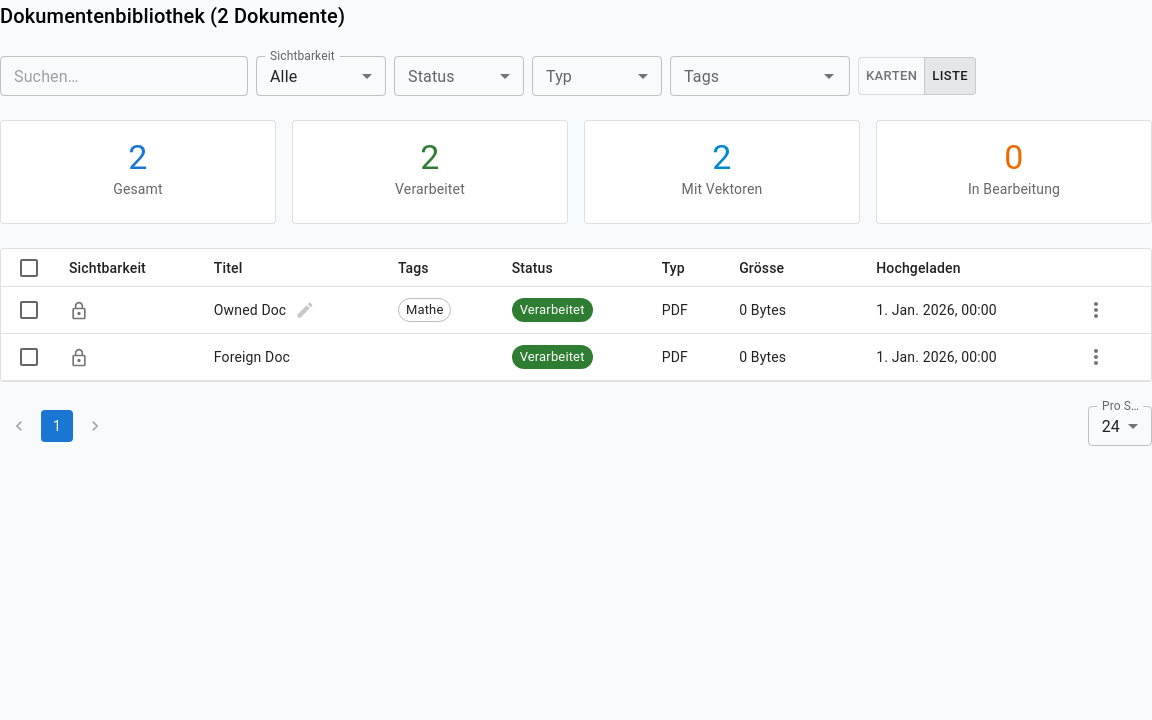
Test: DocumentLibrary TF-355 paginated › (c) bulk tags add: doc mit tag 5 → attachDocumentTags nicht aufgerufen (no-op)
Expected: the text "Owned Doc" is shown, [214,300,286,320]
Click the checkbox named "Owned Doc". click: click(29, 310)
box: [17,298,41,322]
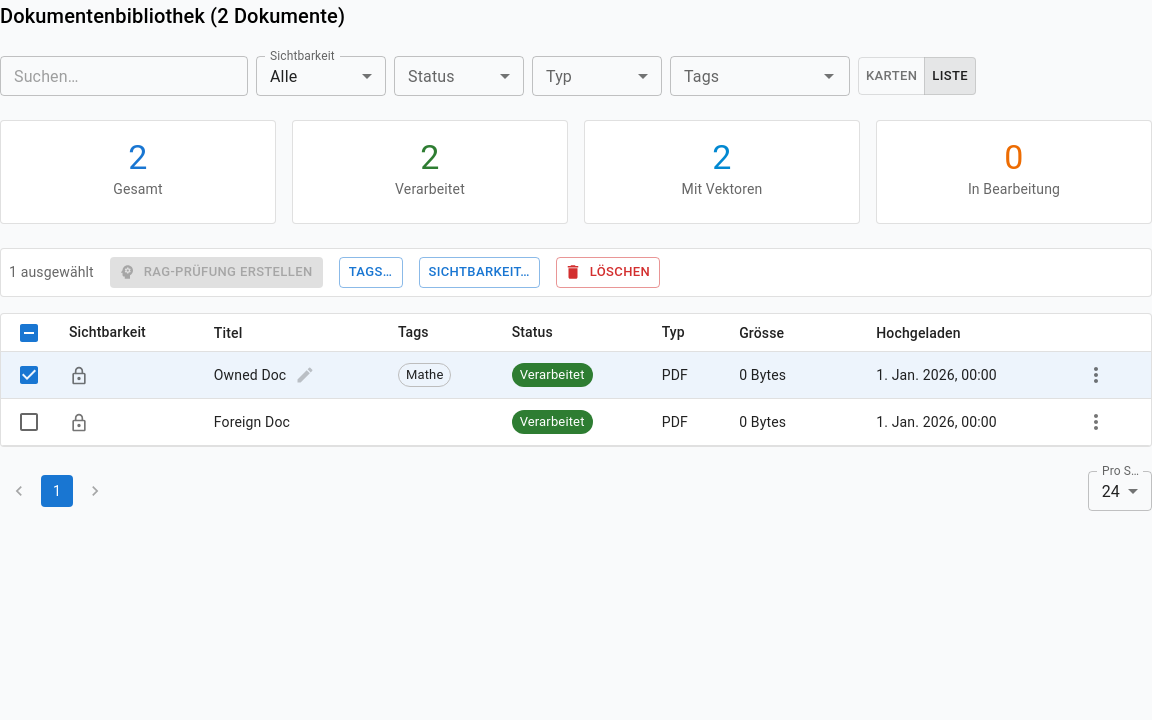
Note: Open bulk Tags dialog
Click the button "Tags…". click: click(370, 272)
box: [338,257,402,288]
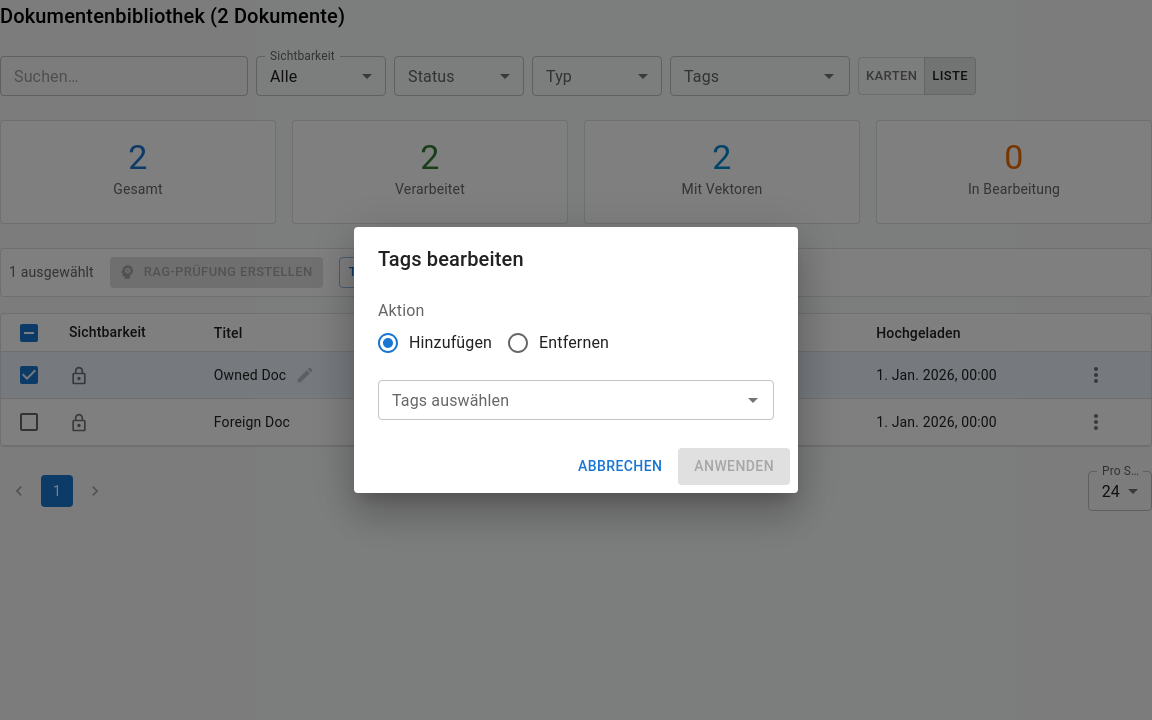
Press the mouse on the dropdown at (560, 400), box [384,386,735,414]
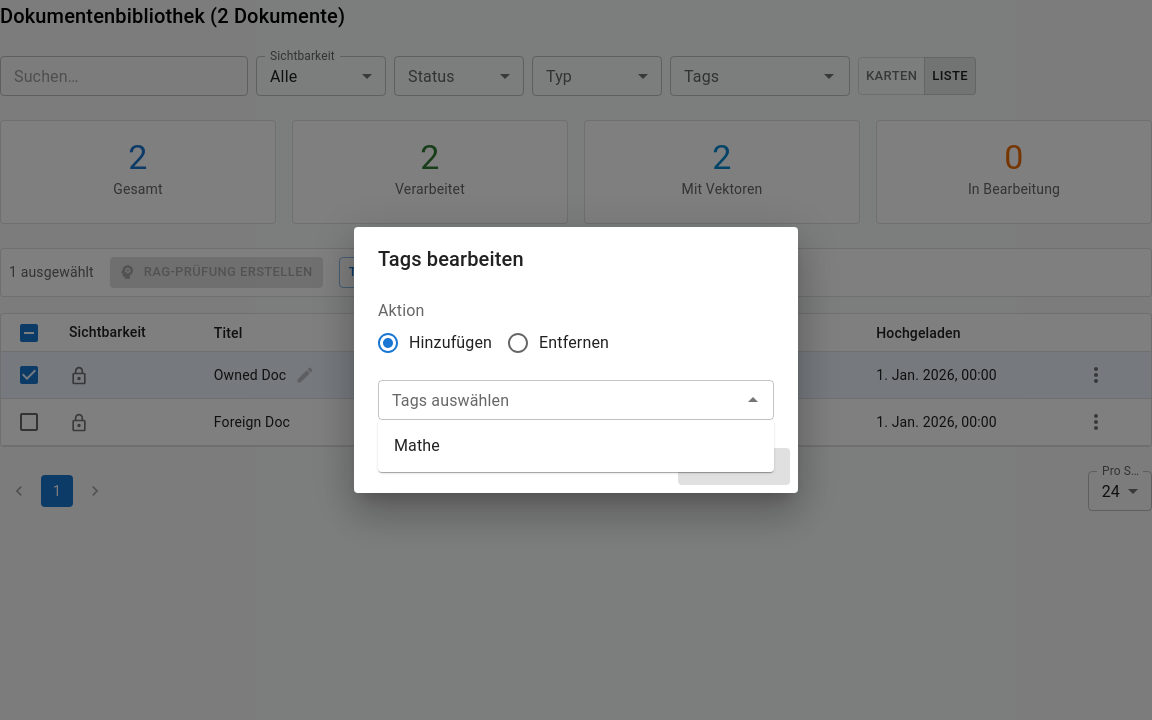
Click the option "Mathe". click: click(417, 446)
box: [394,436,440,455]
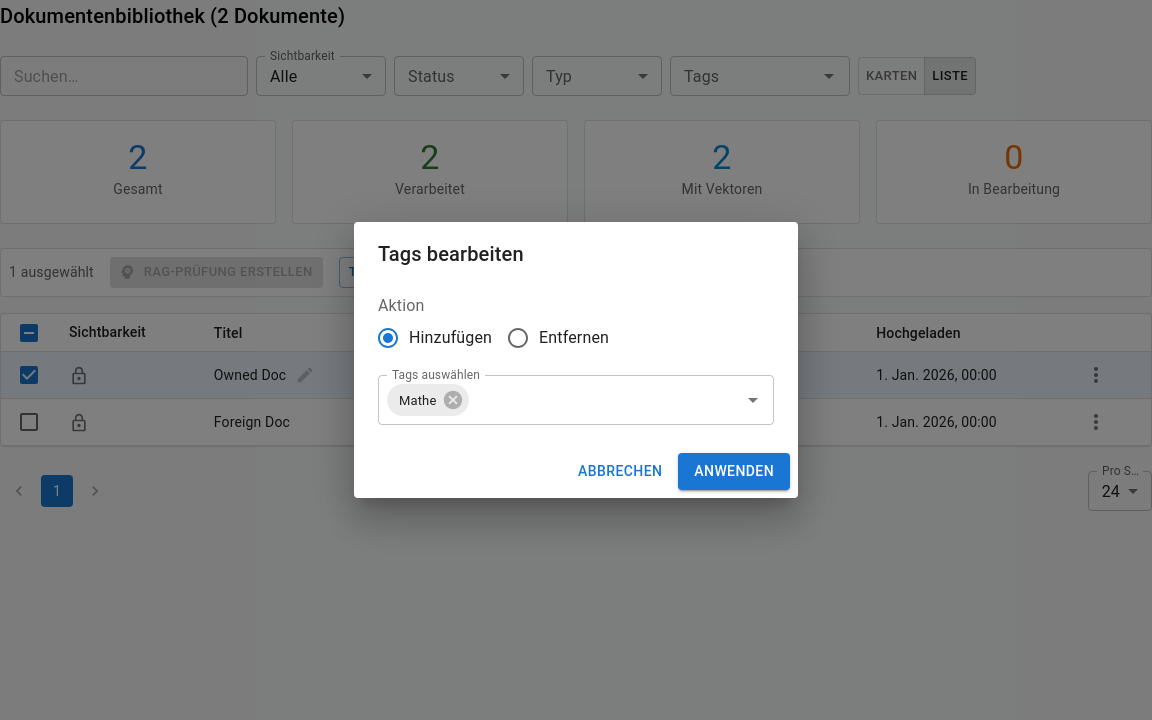
Note: Click Apply
Click the button "Anwenden". click: click(734, 472)
box: [678,453,790,490]
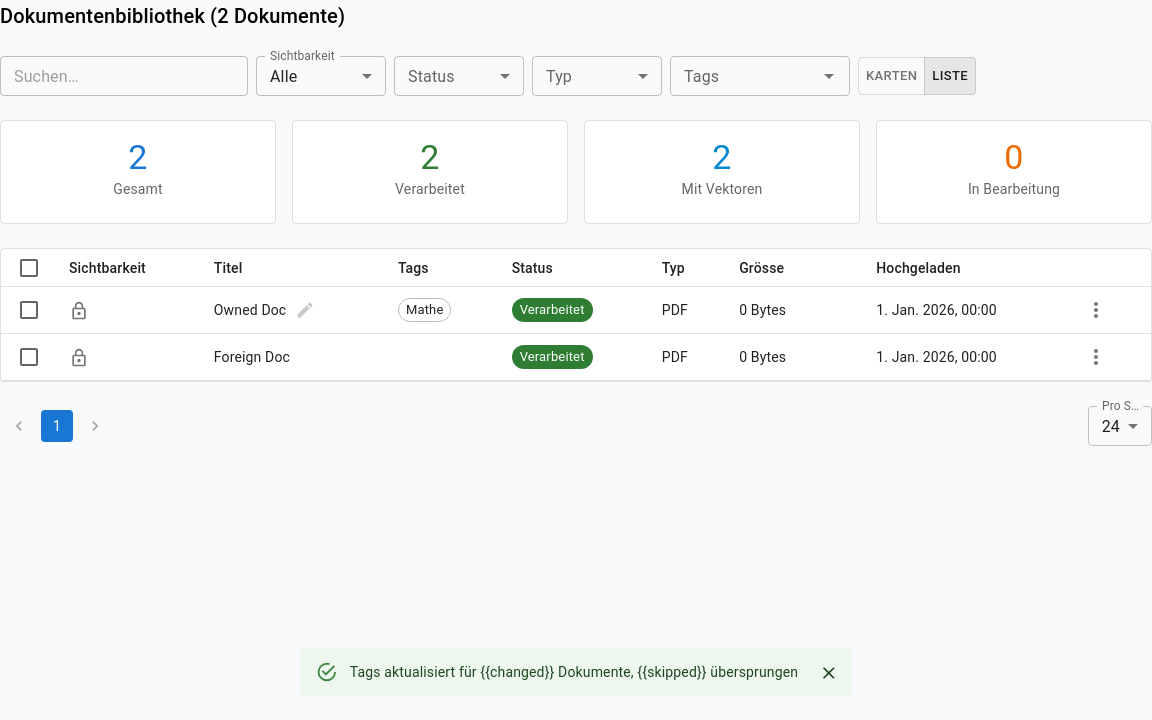
Now the text "aktualisiert" is shown, box [350,664,798,680]
